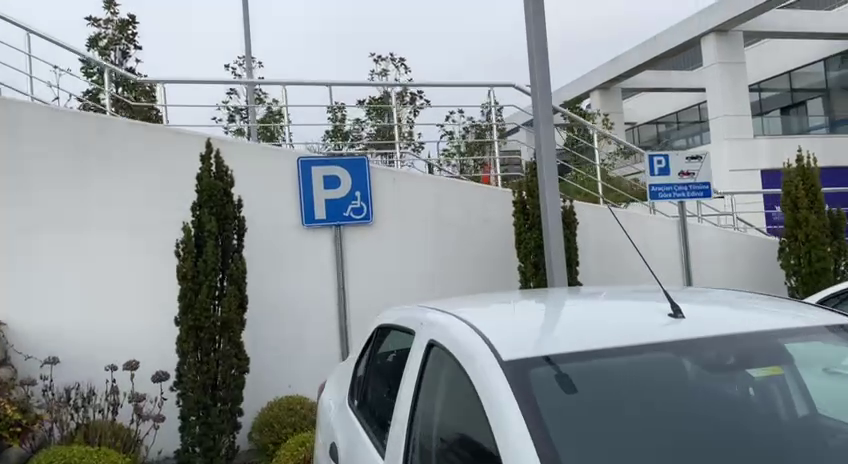parking: (296, 154, 374, 227), (646, 153, 672, 178)
